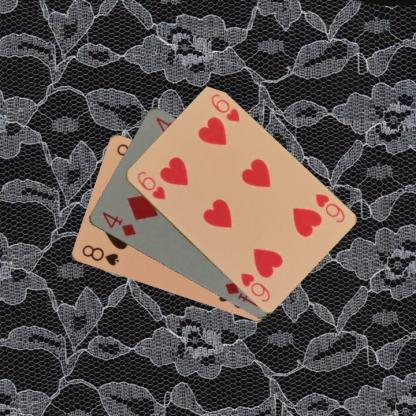4d: (99, 209, 137, 238)
6h: (134, 167, 168, 201), (312, 191, 346, 224)
8s: (79, 242, 120, 268)
